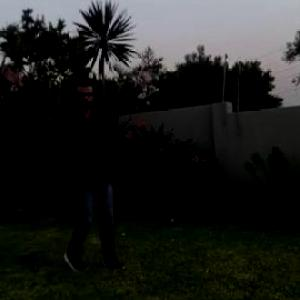takeoff: (1, 71, 148, 273)
